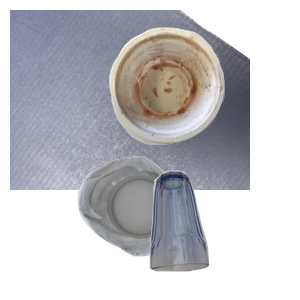cardboard: (10, 10, 250, 190)
glass: (147, 168, 300, 300)
plastic: (75, 154, 248, 300)
trash: (107, 25, 300, 162)
